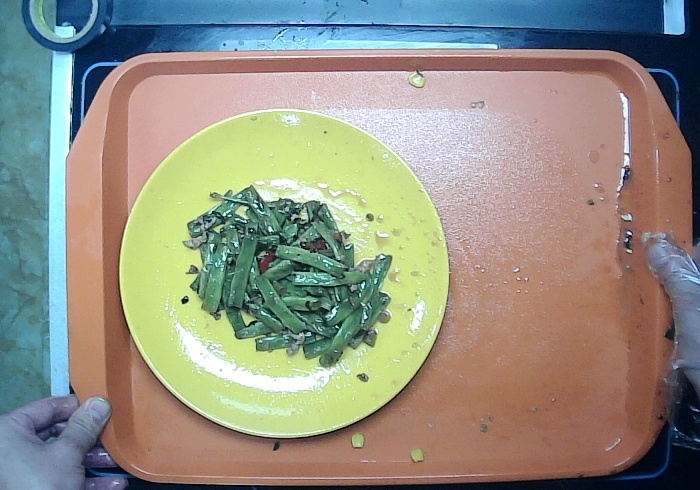HZYJPL-Huang_Se_Yuan_Pan: (112, 104, 456, 447)
